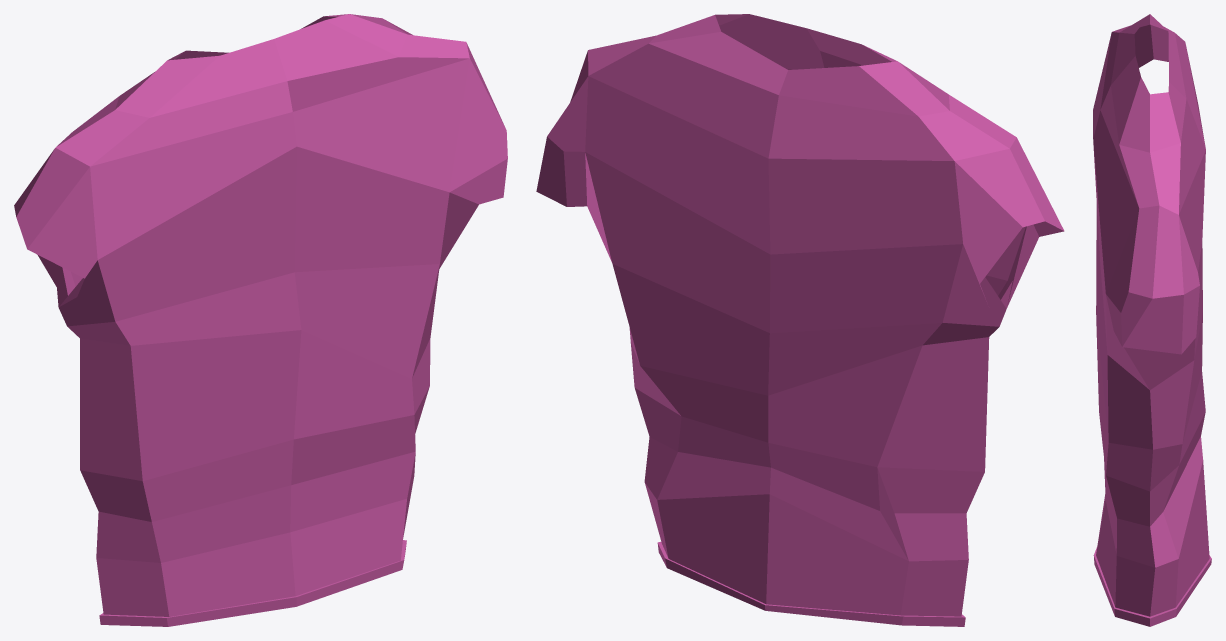
File: 2021hangingshirt2.fbx
3 renders of one model, left to right at view 1: azimuth 30°, elevation 25°; view 2: azimuth 150°, elevation 25°; view 3: azimuth 270°, elevation 25°, orthographic. The views are drawn at different scales.
Visible parts, largest first — view 1: Cylinder.003; view 2: Cylinder.003; view 3: Cylinder.003.
Boxes of the visible parts, box(x1,y1,x2,y2) form: Cylinder.003: box(14, 14, 507, 626); Cylinder.003: box(536, 14, 1064, 626); Cylinder.003: box(1093, 14, 1211, 626).
Size of the model in its own units: 131 by 140 by 29.39.
